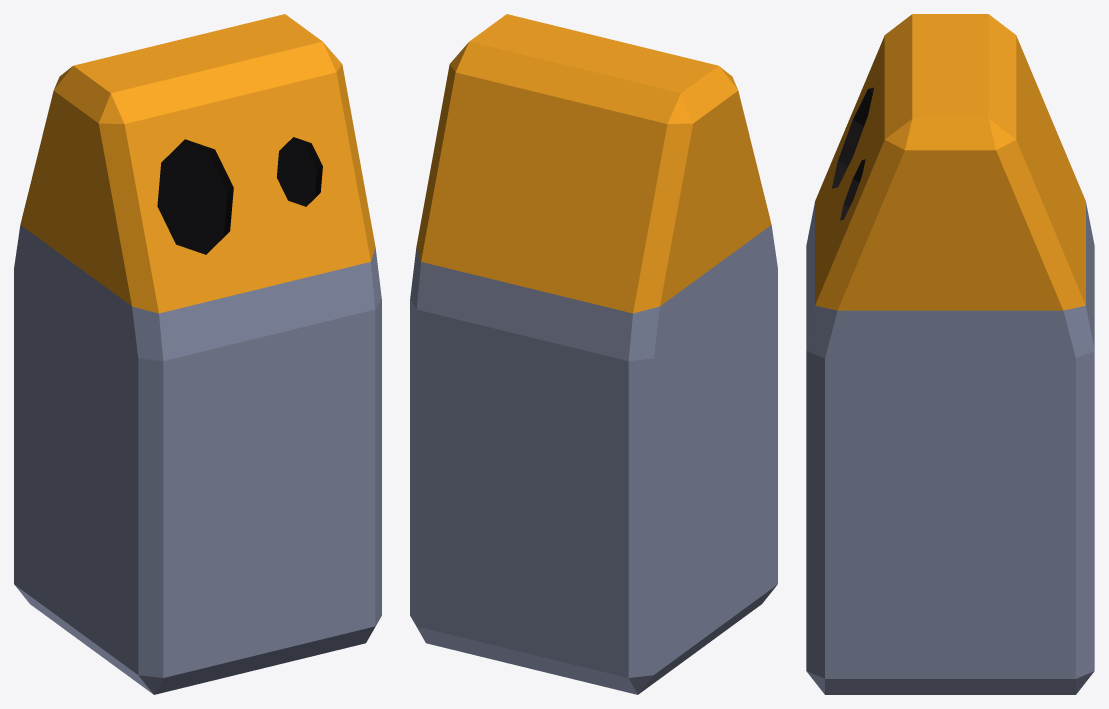
Rendered from RecycleCan_Yellow.fbx.
3 renders of one model, left to right at view 1: azimuth 30°, elevation 25°; view 2: azimuth 150°, elevation 25°; view 3: azimuth 270°, elevation 25°, orthographic.
Parts seen in each view (by area): view 1: RecycleCan_Yellow; view 2: RecycleCan_Yellow; view 3: RecycleCan_Yellow.
Boxes of the visible parts, x1,y1,x2,y2 form: RecycleCan_Yellow: [14, 14, 381, 694]; RecycleCan_Yellow: [410, 14, 777, 694]; RecycleCan_Yellow: [806, 14, 1094, 694].
Bounding box in the file's own units: 140 × 313 × 142.
